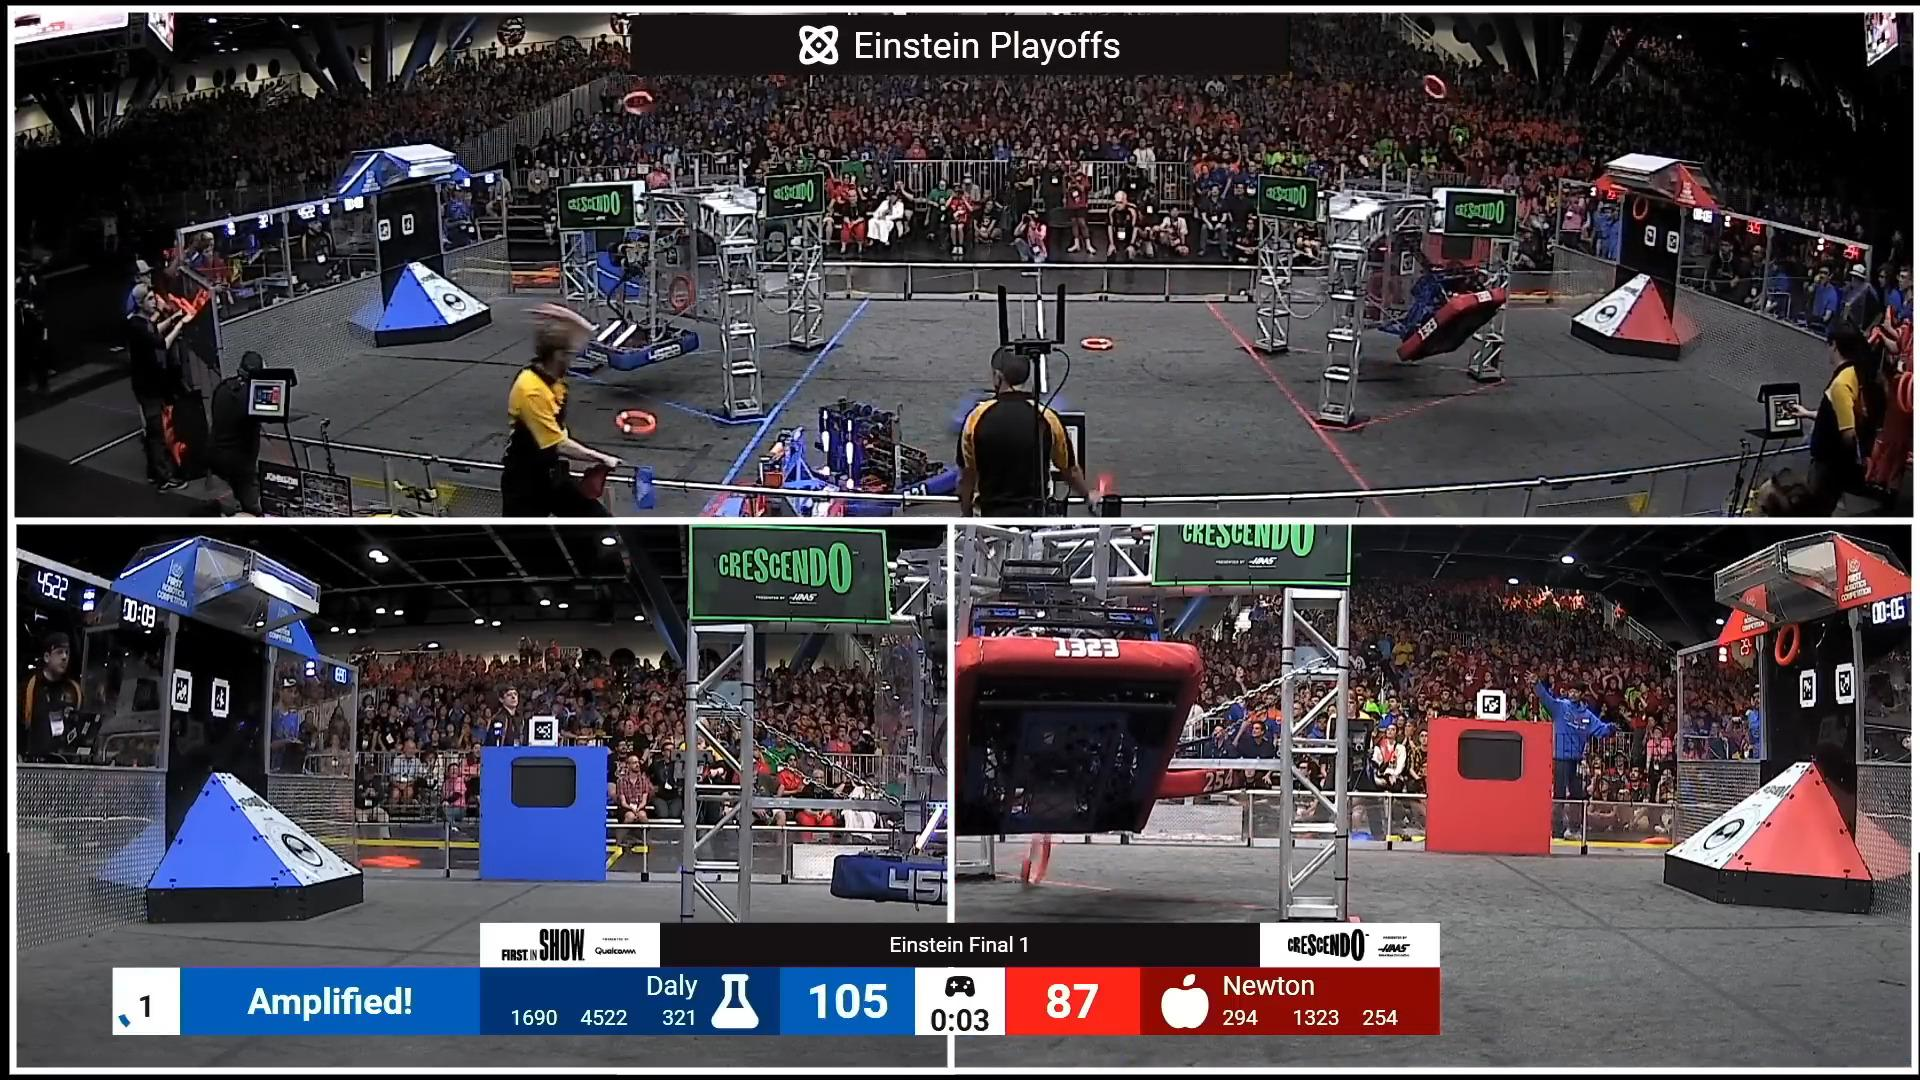red_climbing: (960, 600, 1197, 851), (1367, 225, 1505, 376)
